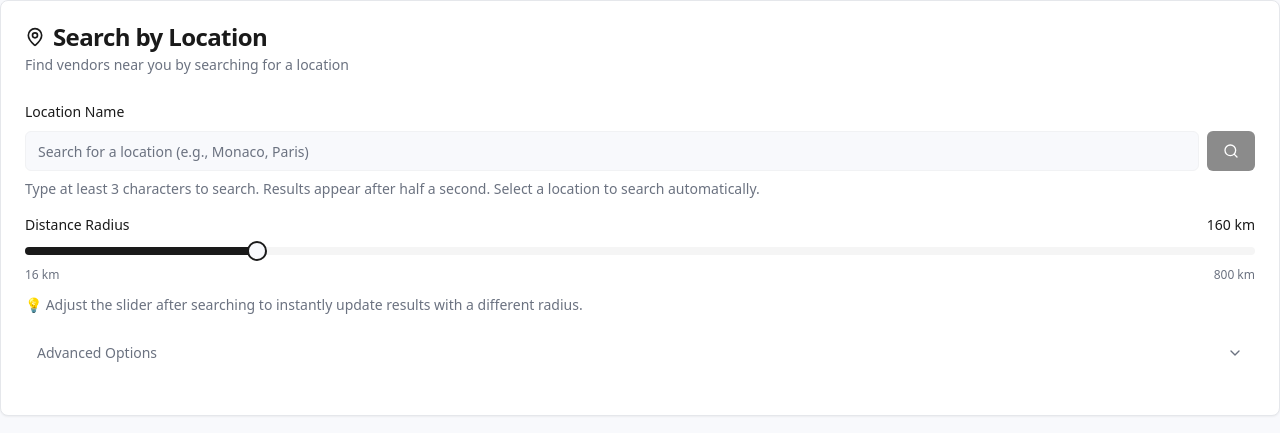
LocationSearchFilter › Multiple Results - Show Selector Dialog › should show results dropdown when multiple results are returned
Step 1. Type "Paris" into the field labelled "Location Name" → (612, 151), box x1=25 y1=131 x2=1199 y2=171
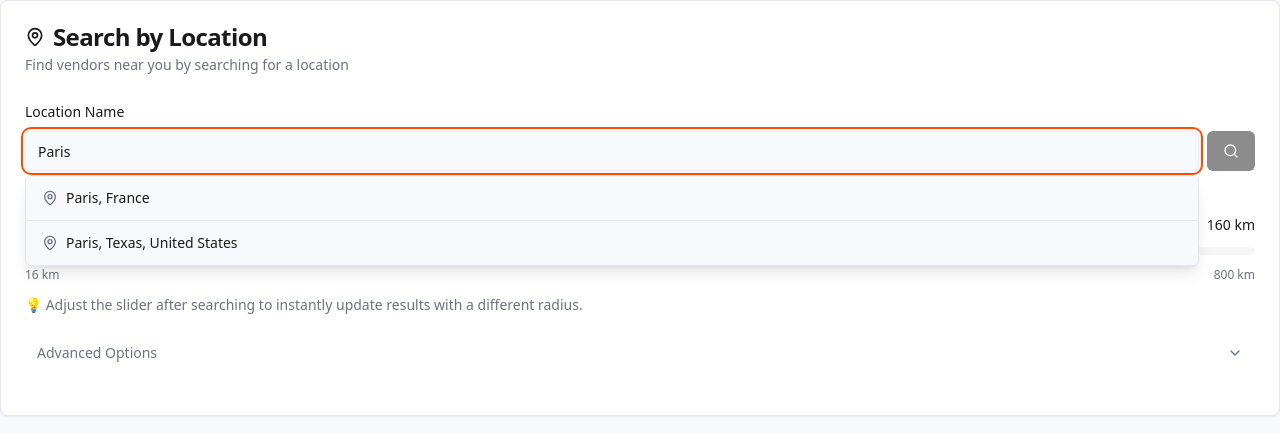
Expected: the list with test id "location-results-dropdown" is shown, x1=25 y1=175 x2=1199 y2=266
